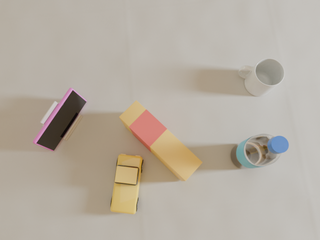bottle: (231, 134, 289, 169)
box: (119, 100, 202, 181)
cup: (239, 58, 284, 96)
phone: (33, 88, 86, 151)
toy_car: (111, 154, 143, 214)
